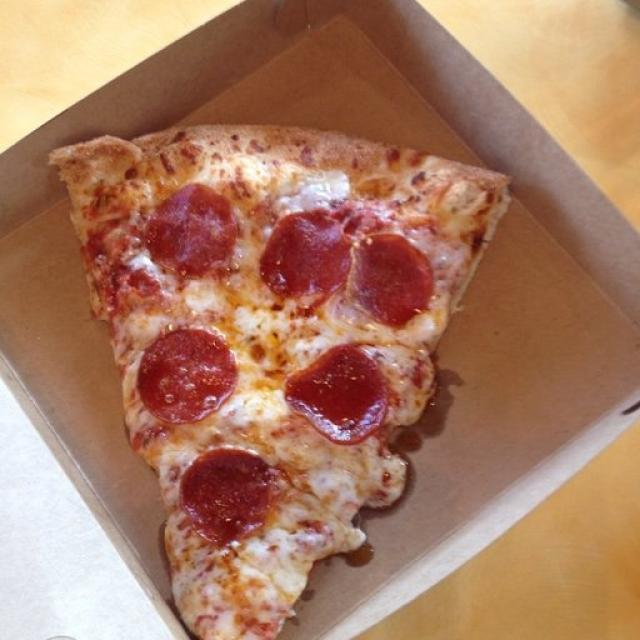Pepperoni: (285, 337, 399, 450), (146, 182, 242, 280), (261, 208, 351, 310), (142, 329, 230, 422), (188, 446, 272, 540)
Pizza: (50, 126, 509, 640)
